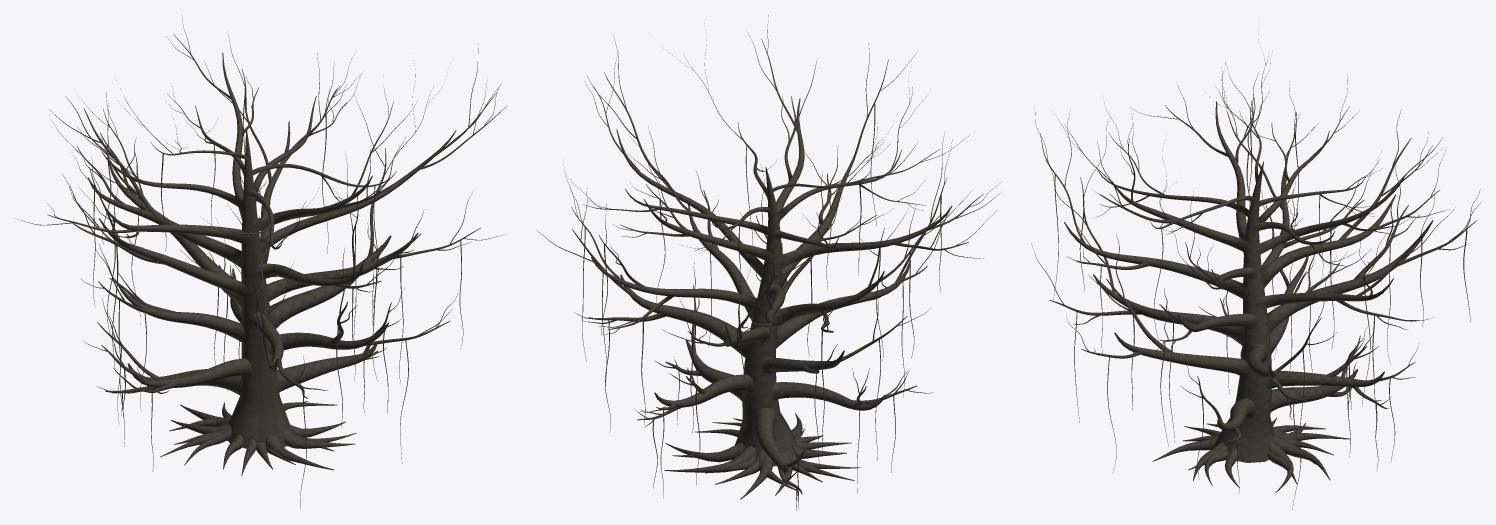
The model's file is tree.gltf.
3 views of the same model, side by side, from view 1: azimuth 30°, elevation 25°; view 2: azimuth 150°, elevation 25°; view 3: azimuth 270°, elevation 25° (orthographic). The views are drawn at different scales.
Parts seen in each view (by area): view 1: Tree_LOD0; view 2: Tree_LOD0; view 3: Tree_LOD0.
Boxes of the visible parts, bbox=[...] form: Tree_LOD0: bbox=[14, 15, 507, 508]; Tree_LOD0: bbox=[537, 15, 1001, 510]; Tree_LOD0: bbox=[1031, 29, 1481, 509].
Size of the model in its own units: 156 by 131 by 143.
Materials: 1 (1 with a texture image).
